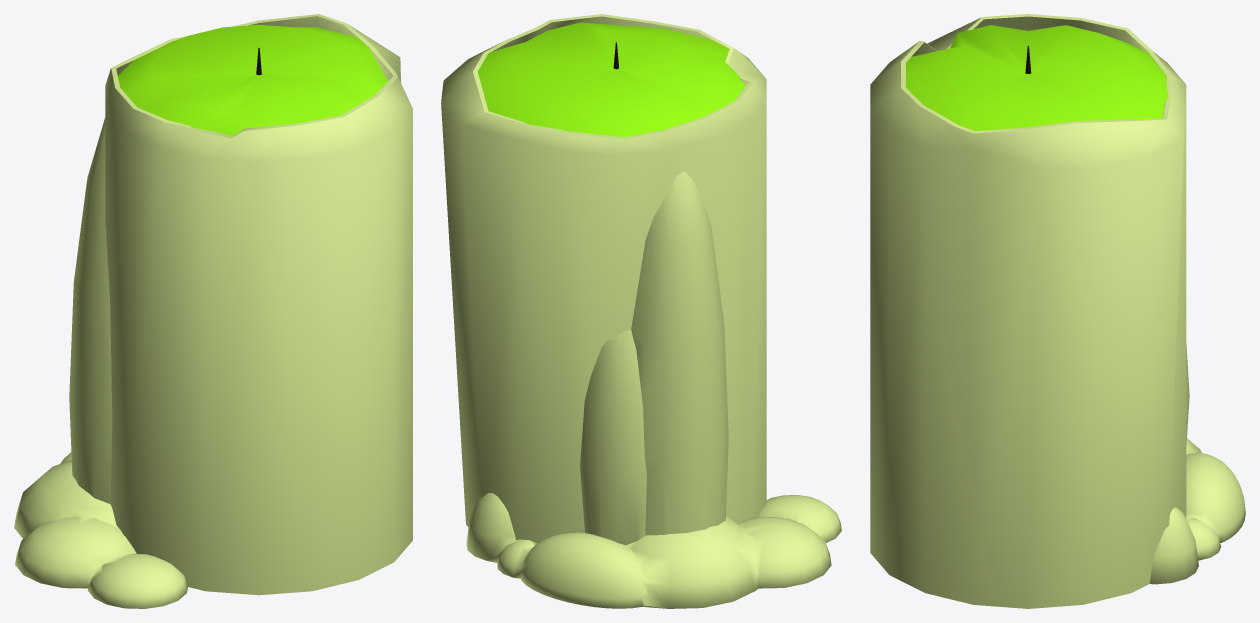
The model's file is swieczka06.FBX.
The picture shows the model from 3 angles, left to right: view 1: azimuth 30°, elevation 25°; view 2: azimuth 150°, elevation 25°; view 3: azimuth 270°, elevation 25°; orthographic projection. The views are drawn at different scales.
Visible parts, largest first — view 1: Cylinder001, Sphere002; view 2: Cylinder001, Sphere002; view 3: Cylinder001, Sphere002.
Part boxes in pixels (box(x1,y1,x2,y2)): Cylinder001: box(105, 14, 412, 595); Sphere002: box(14, 117, 187, 608); Cylinder001: box(441, 14, 766, 543); Sphere002: box(466, 171, 841, 608); Cylinder001: box(870, 14, 1186, 608); Sphere002: box(1149, 343, 1245, 584).
Bounding box in the file's own units: 13.7 × 17.01 × 11.69.
